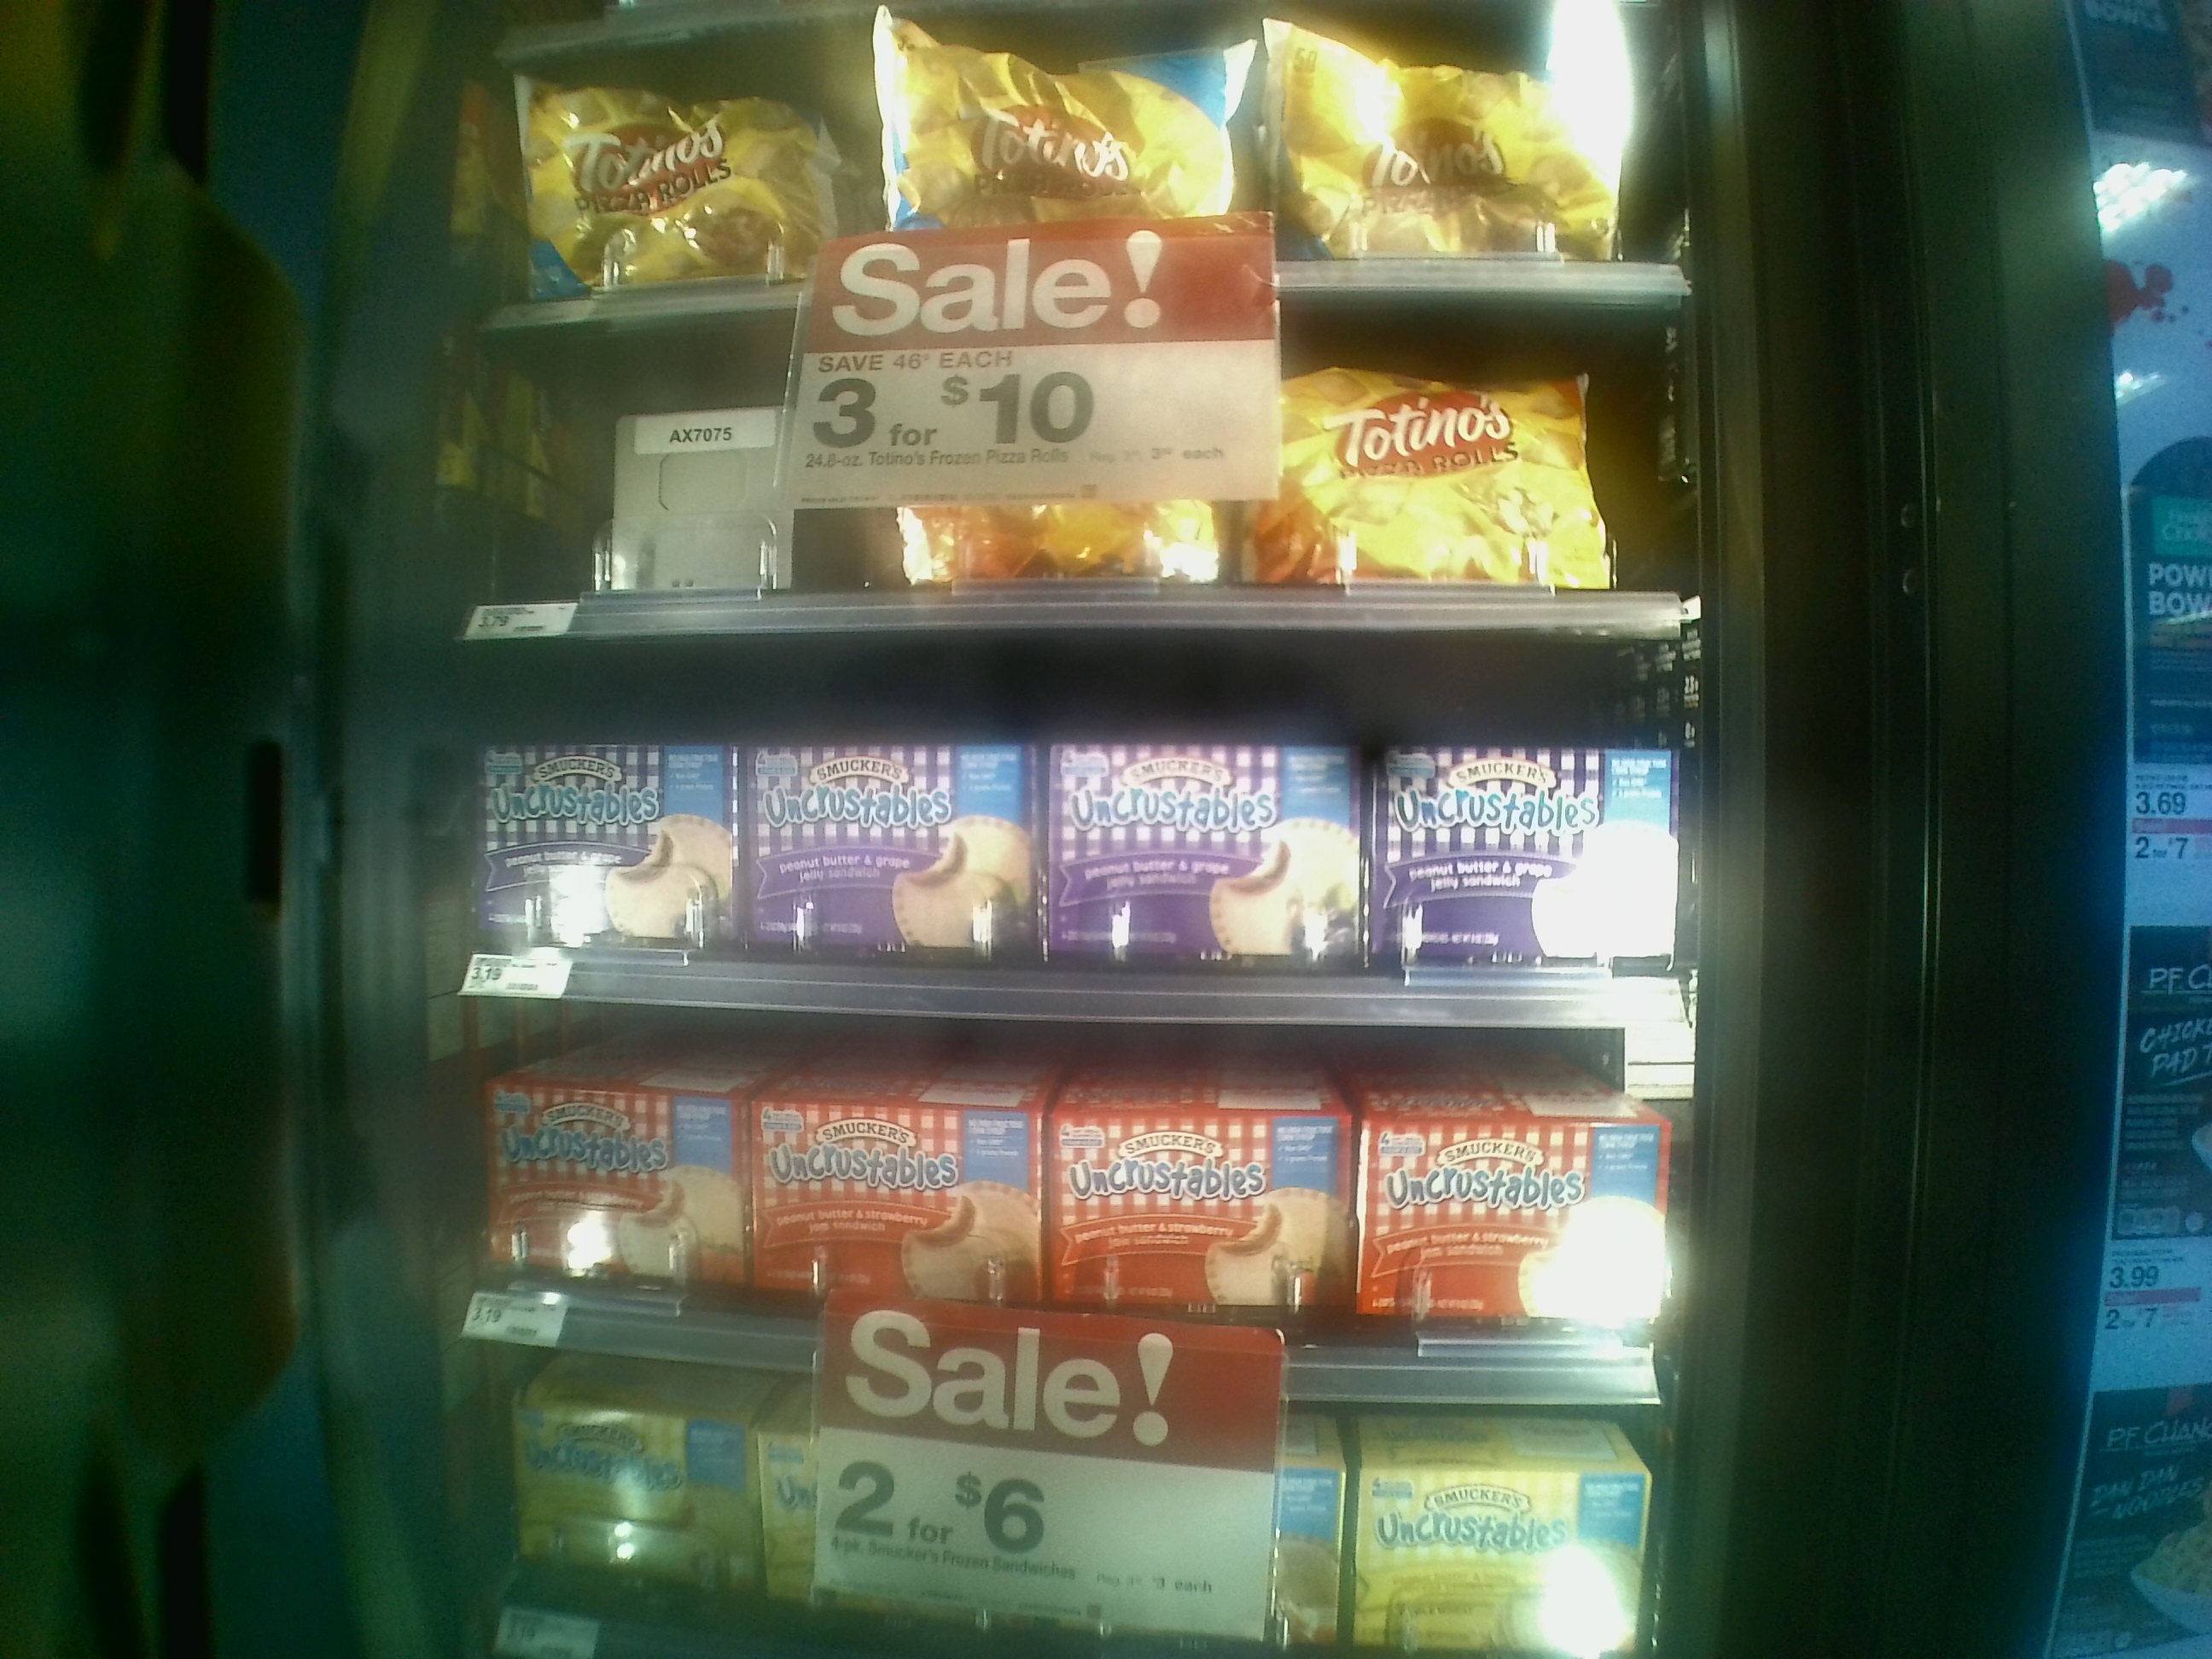shelf: (409, 1007, 1679, 1410), (413, 640, 1695, 1032), (441, 331, 1698, 643)
